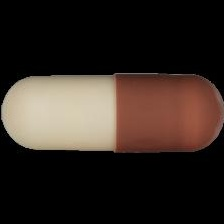55154-8277: (0, 0, 224, 224)
